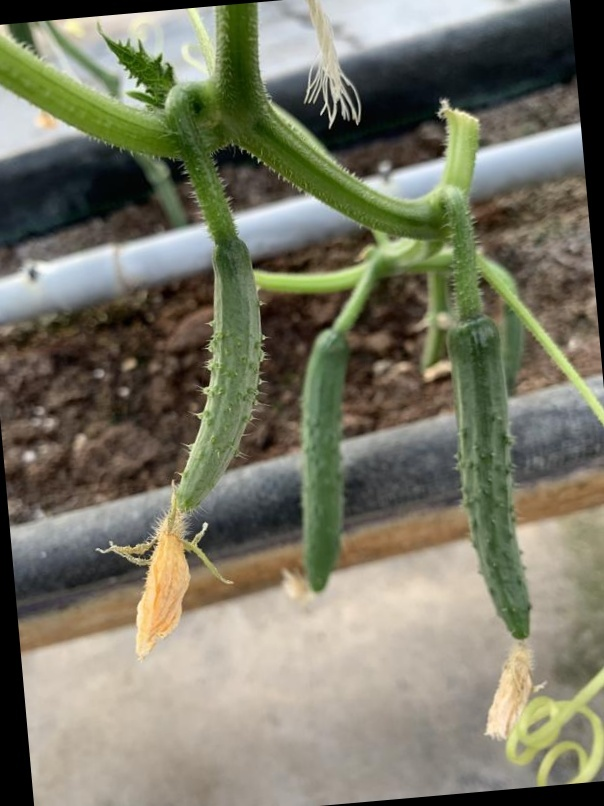bear: (104, 222, 292, 658)
growth: (443, 311, 540, 675), (290, 323, 355, 603)
mature: (290, 325, 355, 604)
